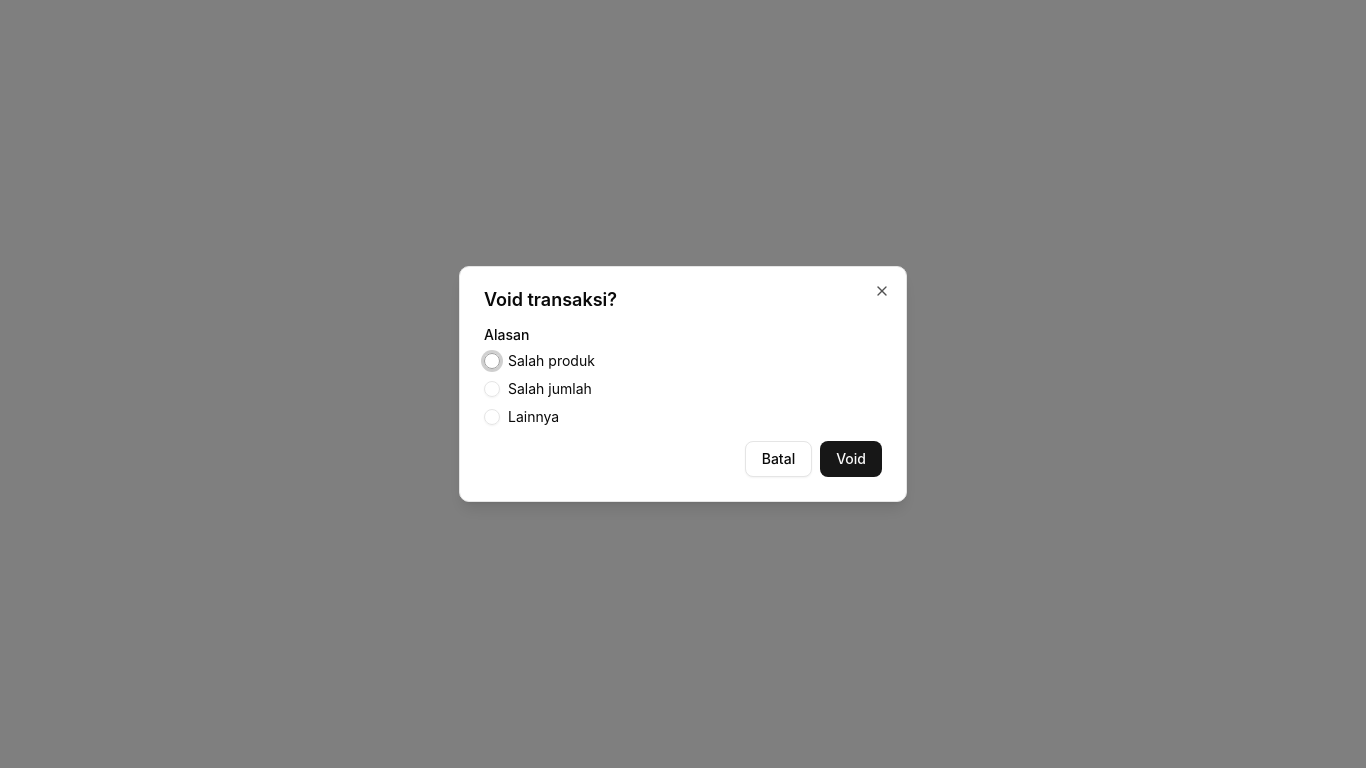
Test case: ConfirmWithReasonDialog — alasan wajib › US-M6-03 KP-1 void: wajib pilih kode alasan; 'Lainnya' wajib teks
Later steps or results of the test are not shown.
Expected: the radio button named "Lainnya" next to "Lainnya" is shown, [484, 409, 500, 425]
Click the button "Void".
click(851, 459)  # box [820, 441, 882, 477]
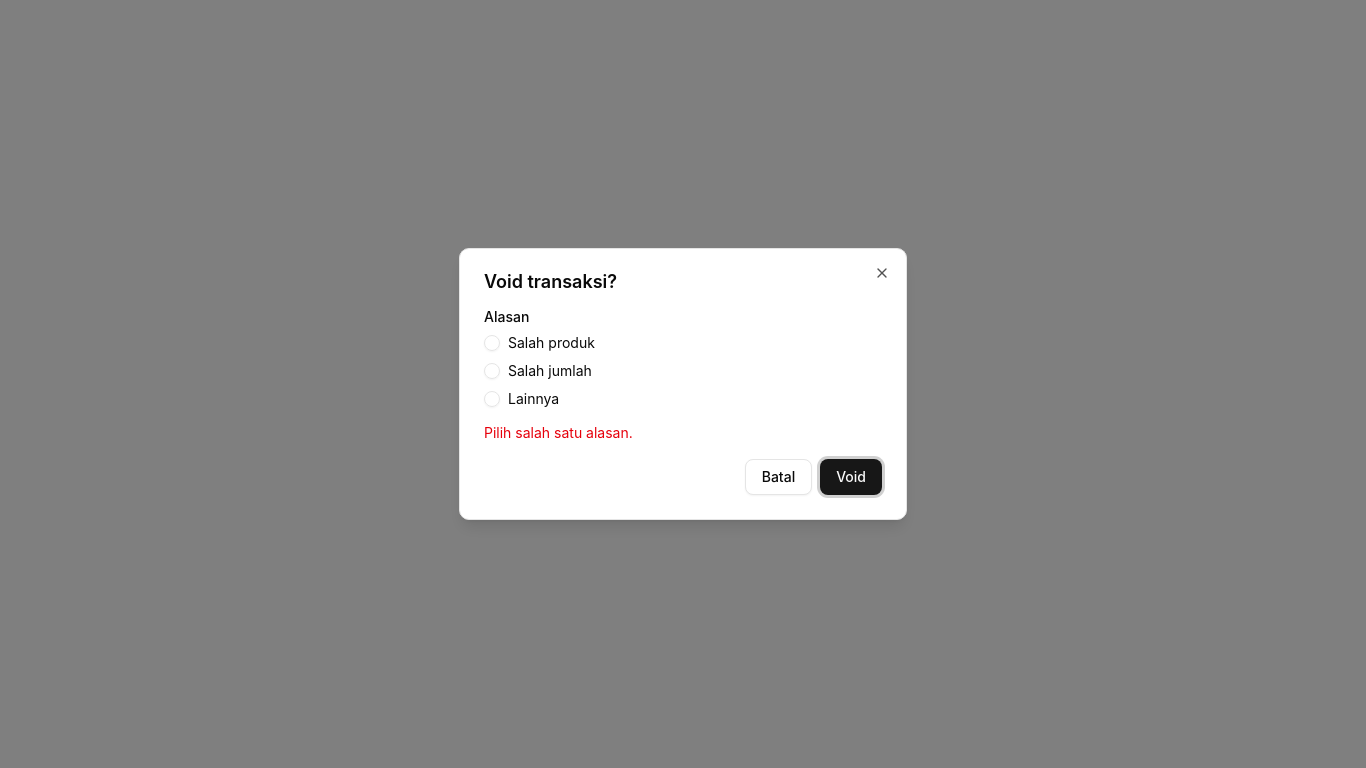
Result: the message reads "Pilih salah satu alasan." at [484, 424, 633, 441]
Click the radio button named "Lainnya" next to "Lainnya".
click(492, 399)  # box [484, 391, 500, 407]
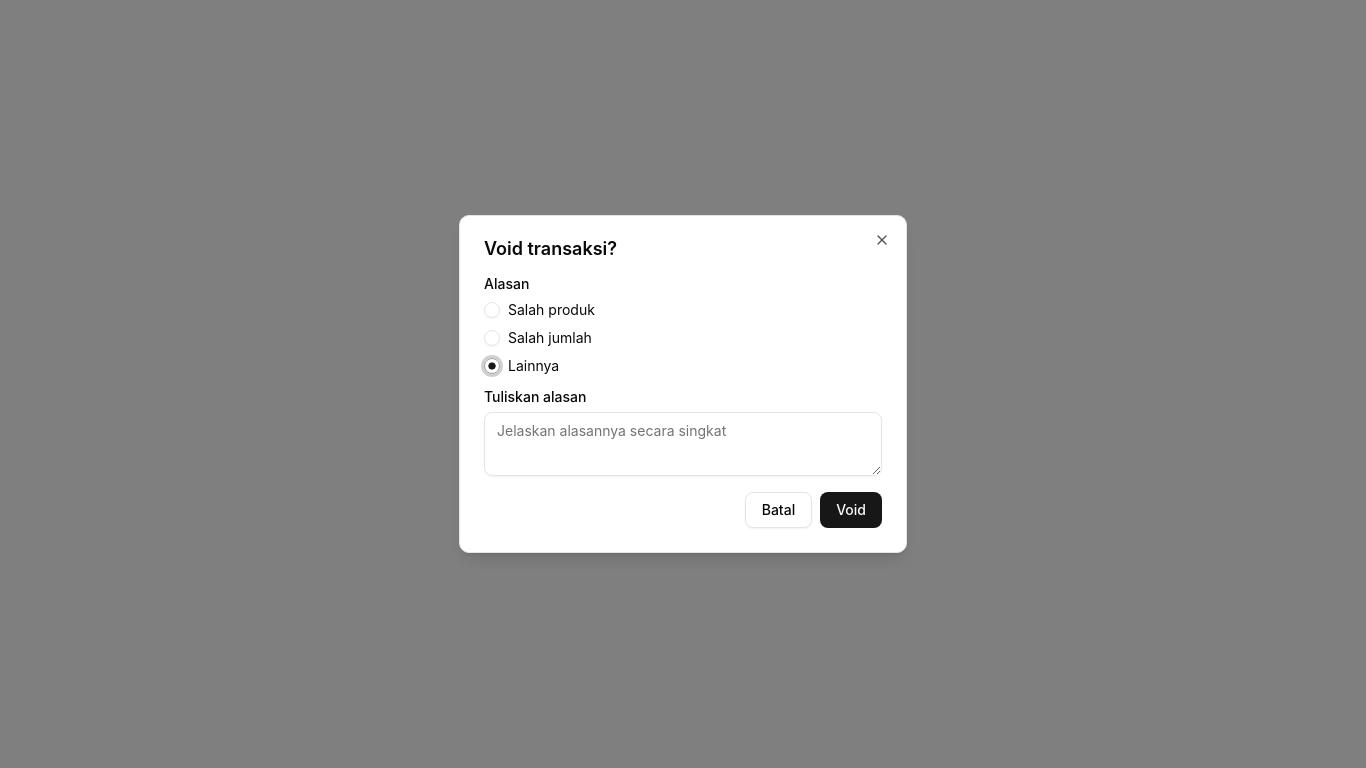
Click the button "Void".
click(851, 510)  # box [820, 492, 882, 528]
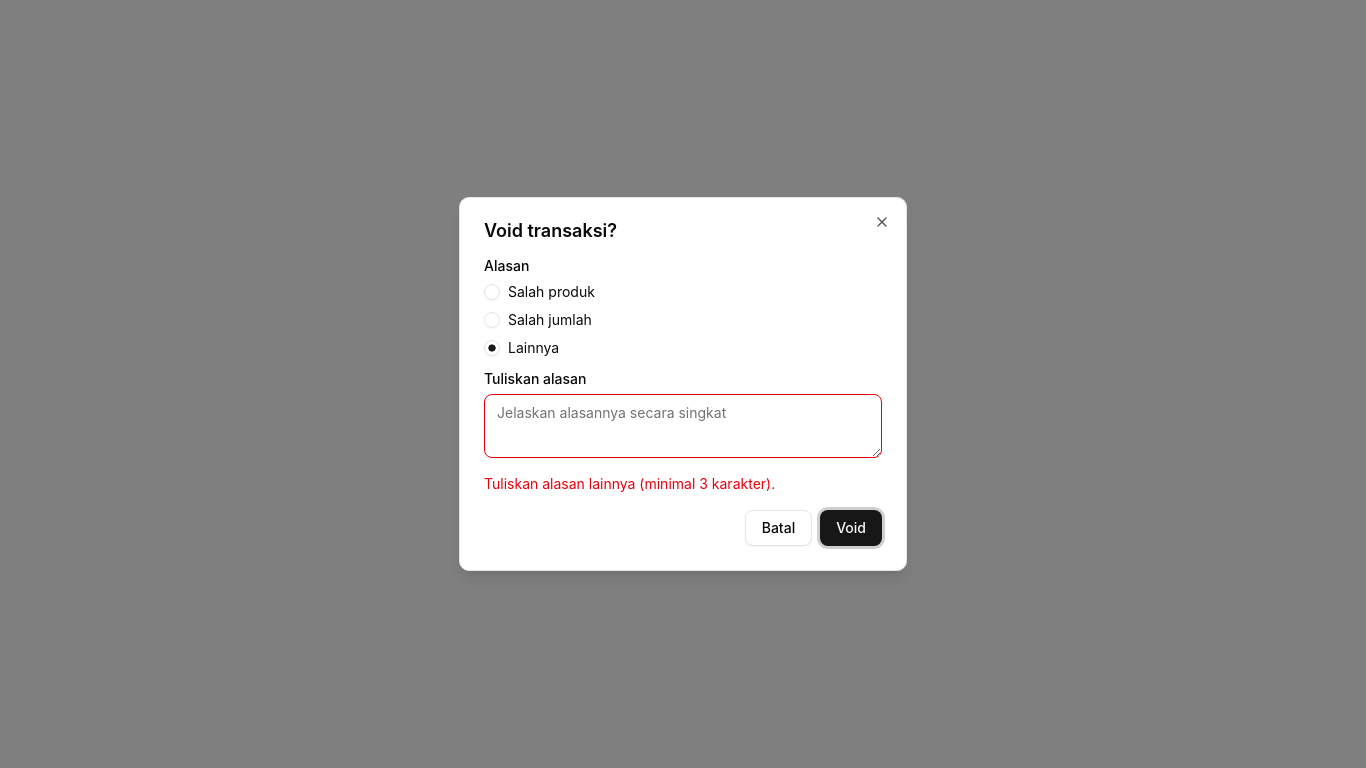
Result: the message shows "alasan lainnya" at [484, 475, 775, 492]
